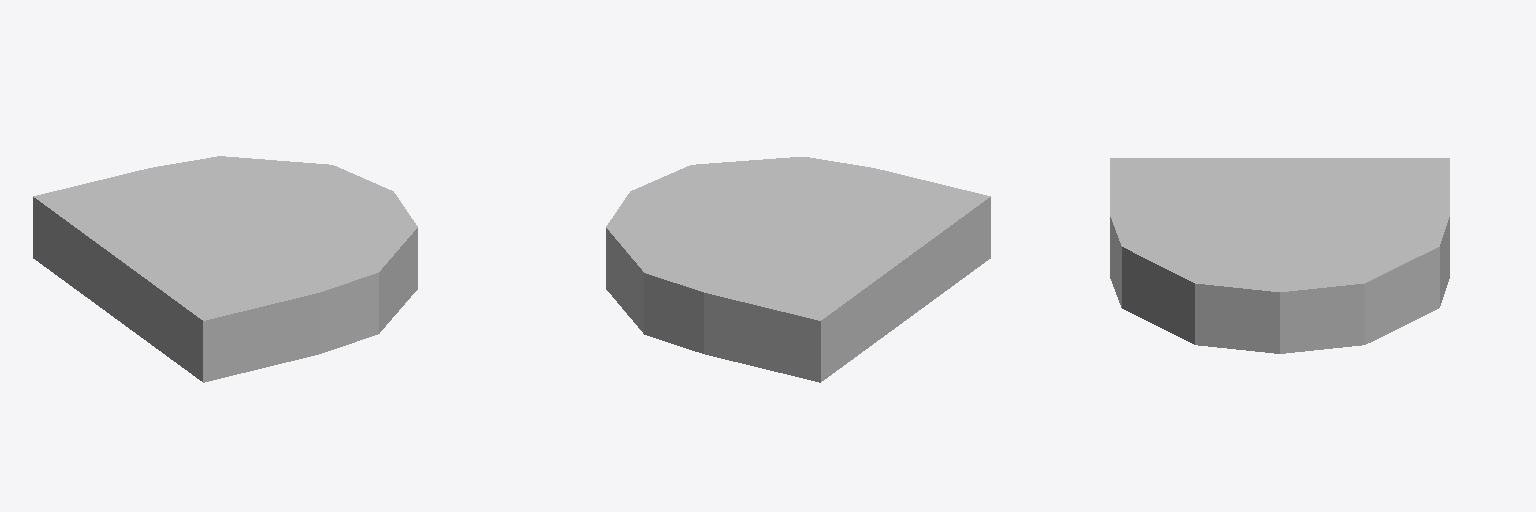
The model's file is AndGate.obj.
3 views of the same model, side by side, from view 1: azimuth 30°, elevation 25°; view 2: azimuth 150°, elevation 25°; view 3: azimuth 270°, elevation 25° (orthographic).
Visible parts, largest first — view 1: pCube11; view 2: pCube11; view 3: pCube11.
Boxes of the visible parts, x1,y1,x2,y2 form: pCube11: [33, 156, 417, 382]; pCube11: [606, 157, 990, 382]; pCube11: [1110, 158, 1449, 353].
Bounding box in the file's own units: 0.9348 × 0.2 × 1.